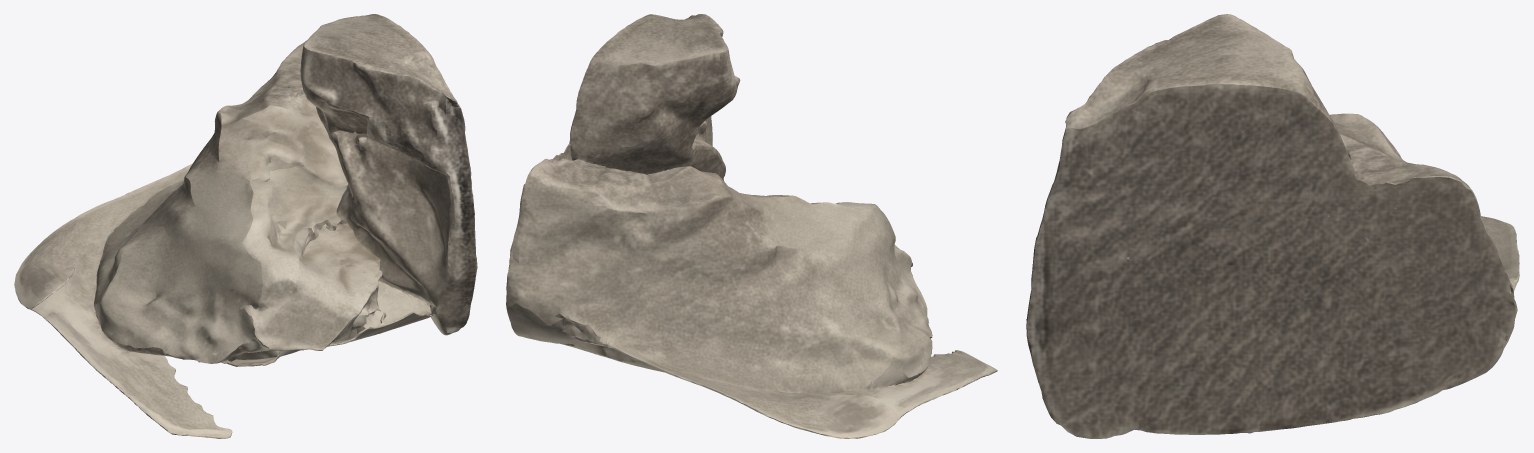
File: look1_T2_A2.glb
3 views of the same model, side by side, from view 1: azimuth 30°, elevation 25°; view 2: azimuth 150°, elevation 25°; view 3: azimuth 270°, elevation 25° (orthographic). The views are drawn at different scales.
Parts seen in each view (by area): view 1: world; view 2: world; view 3: world.
Boxes of the visible parts, x1=… form: world: x1=14, y1=14, x2=477, y2=438; world: x1=506, y1=14, x2=997, y2=438; world: x1=1026, y1=14, x2=1519, y2=438.
Size of the model in its own units: 0.35 by 0.3189 by 0.3508.
1 material, 1 textured.
